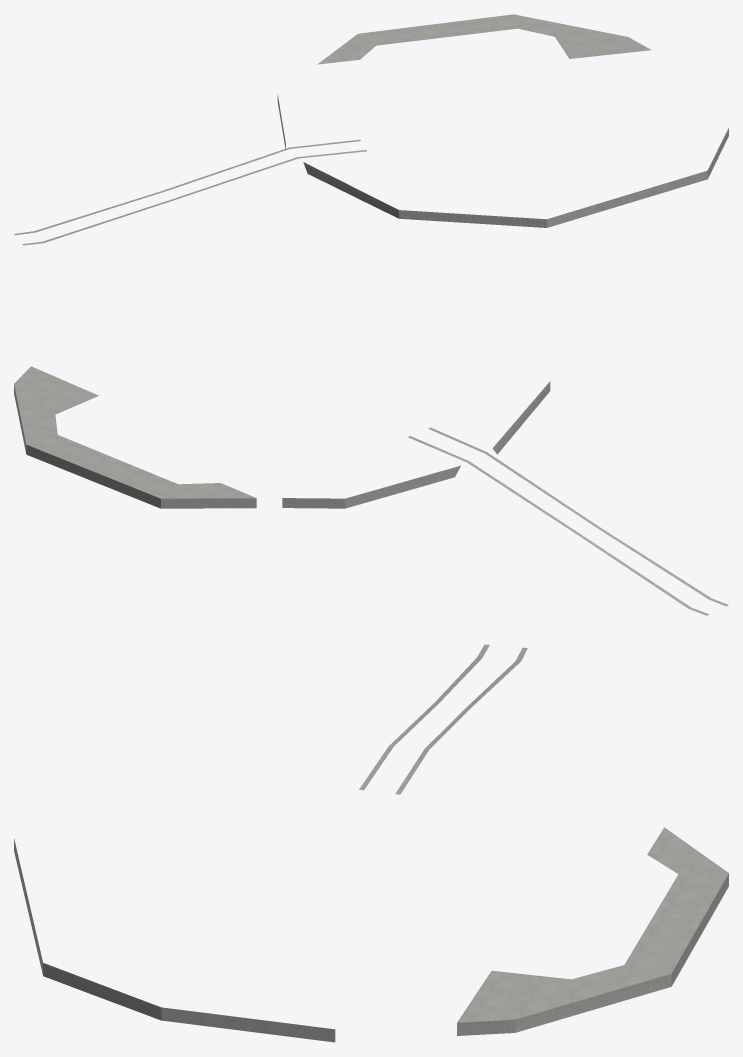
Rendered from kd_stage_136599_0_11_bounded.glb.
The picture shows the model from 3 angles, top to bottom: view 1: azimuth 30°, elevation 25°; view 2: azimuth 150°, elevation 25°; view 3: azimuth 270°, elevation 25°; orthographic projection. The views are drawn at different scales.
Visible parts, largest first — view 1: kd_stage_136599_0_11_bounded; view 2: kd_stage_136599_0_11_bounded; view 3: kd_stage_136599_0_11_bounded.
Boxes of the visible parts, x1=… form: kd_stage_136599_0_11_bounded: x1=14, y1=14, x2=728, y2=245; kd_stage_136599_0_11_bounded: x1=14, y1=366, x2=728, y2=615; kd_stage_136599_0_11_bounded: x1=14, y1=644, x2=728, y2=1042.
Size of the model in its own units: 177 by 13.74 by 116.
1 material, 1 textured.
